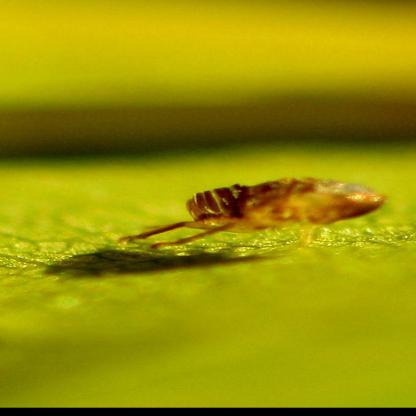aphid: (110, 167, 408, 259)
